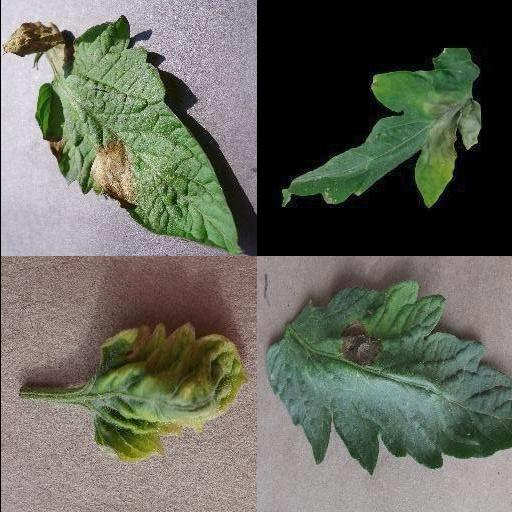Early Blight: (261, 278, 511, 478)
Late Blight: (0, 14, 243, 256), (279, 49, 481, 211)
Yellow Leaf Curl Virus: (89, 320, 249, 462)
